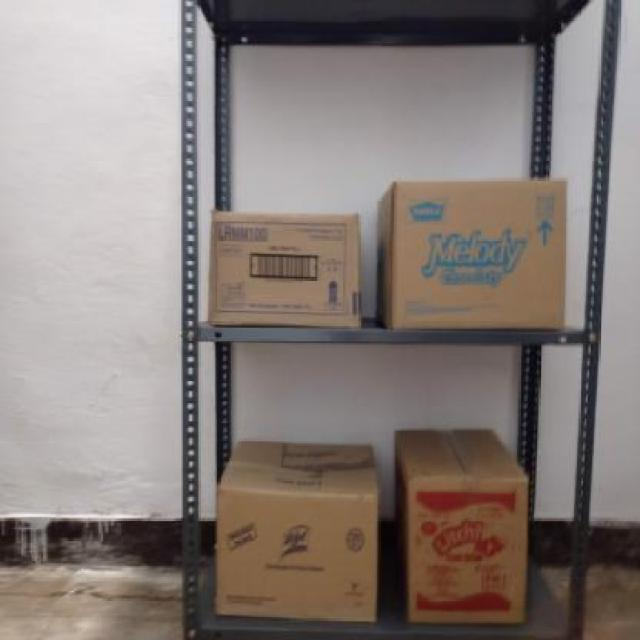box: (390, 180, 568, 332), (215, 492, 378, 616), (208, 210, 362, 326), (410, 477, 528, 623)
